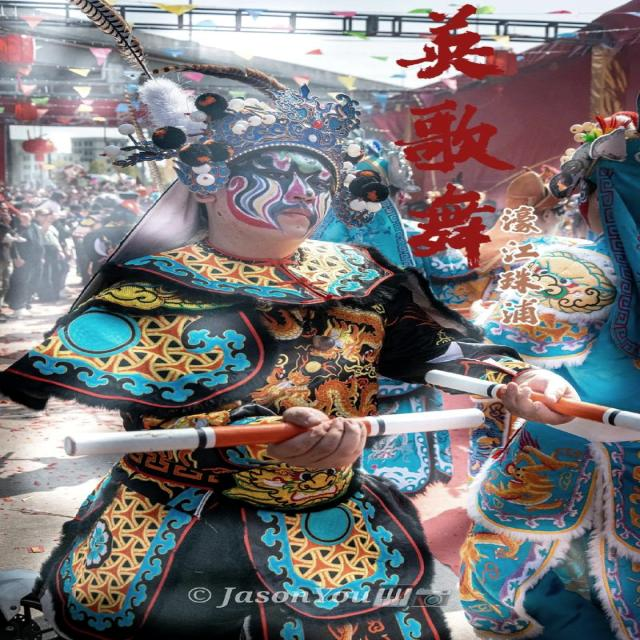Reeves-s Pheasant: (58, 0, 160, 76)
